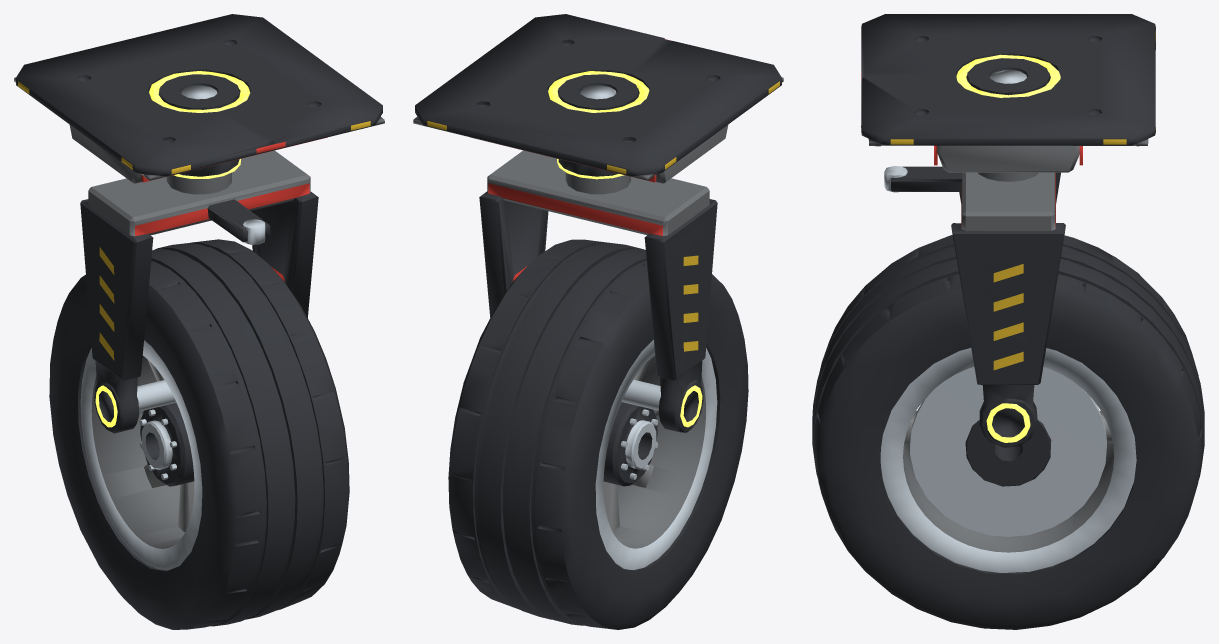
File: R4M_WheelM_Steer_Road_LOD1.fbx
The picture shows the model from 3 angles, left to right: view 1: azimuth 30°, elevation 25°; view 2: azimuth 150°, elevation 25°; view 3: azimuth 270°, elevation 25°; orthographic projection. The views are drawn at different scales.
Visible parts, largest first — view 1: R4M_WheelM_Steer_Road_Rotor_LOD1, R4M_WheelM_Steer_Road_Mount_LOD1, R4M_WheelM_Steer_Road_Knuckle_LOD1; view 2: R4M_WheelM_Steer_Road_Rotor_LOD1, R4M_WheelM_Steer_Road_Mount_LOD1, R4M_WheelM_Steer_Road_Knuckle_LOD1; view 3: R4M_WheelM_Steer_Road_Rotor_LOD1, R4M_WheelM_Steer_Road_Mount_LOD1, R4M_WheelM_Steer_Road_Knuckle_LOD1.
Part boxes in pixels (bbox=[...]): R4M_WheelM_Steer_Road_Rotor_LOD1: bbox=[49, 239, 349, 629]; R4M_WheelM_Steer_Road_Mount_LOD1: bbox=[14, 14, 384, 183]; R4M_WheelM_Steer_Road_Knuckle_LOD1: bbox=[80, 150, 318, 433]; R4M_WheelM_Steer_Road_Rotor_LOD1: bbox=[448, 239, 748, 629]; R4M_WheelM_Steer_Road_Mount_LOD1: bbox=[413, 14, 783, 183]; R4M_WheelM_Steer_Road_Knuckle_LOD1: bbox=[479, 150, 717, 432]; R4M_WheelM_Steer_Road_Rotor_LOD1: bbox=[812, 235, 1204, 629]; R4M_WheelM_Steer_Road_Mount_LOD1: bbox=[861, 14, 1155, 172]; R4M_WheelM_Steer_Road_Knuckle_LOD1: bbox=[884, 166, 1065, 447].
Size of the model in its own units: 0.5108 by 1.02 by 0.68.
